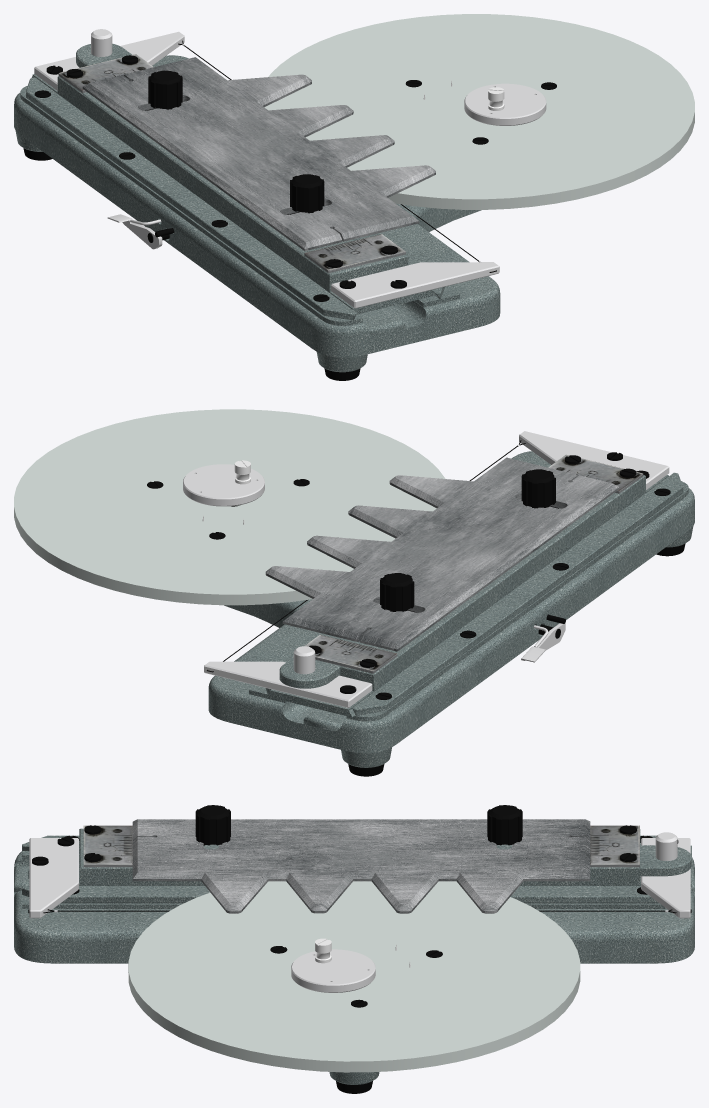
3 renders of one model, top to bottom at view 1: azimuth 30°, elevation 25°; view 2: azimuth 150°, elevation 25°; view 3: azimuth 270°, elevation 25°, orthographic. The views are drawn at different scales.
Parts seen in each view (by area): view 1: диск с пазом, Rectangle013, корпус, замок; view 2: диск с пазом, Rectangle013, корпус, замок; view 3: диск с пазом, Rectangle013, корпус.
Part boxes in pixels (x1,y1,x2,y2): диск с пазом: (264,14,694,209); Rectangle013: (31,29,499,314); корпус: (14,55,500,380); замок: (107,214,169,249); диск с пазом: (14,409,445,605); Rectangle013: (204,431,669,717); корпус: (208,451,694,776); замок: (521,623,565,662); диск с пазом: (128,881,580,1072); Rectangle013: (28,805,691,918); корпус: (14,835,694,1093).
Size of the model in its own units: 25.21 by 5.66 by 27.5.
